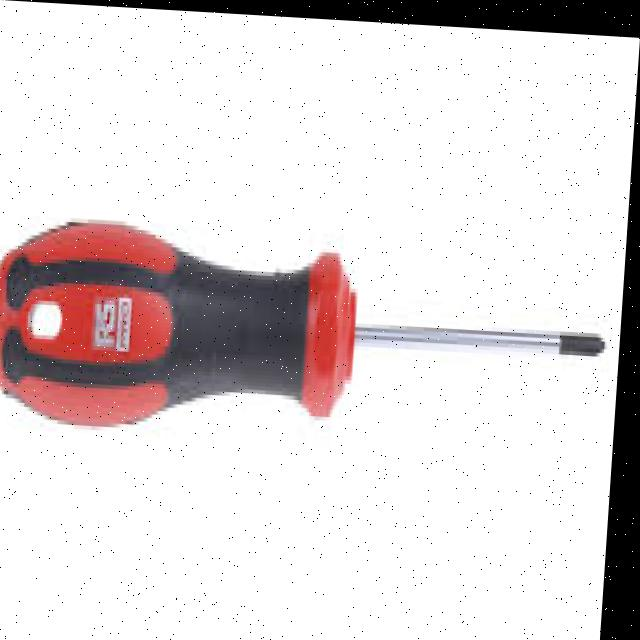Screwdriver: (0, 221, 611, 424)
